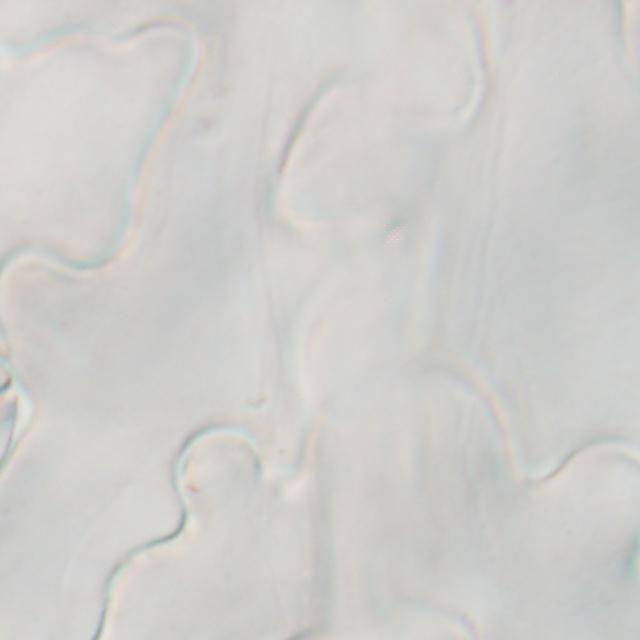center: (0, 409, 40, 414)
stomata-huw1: (1, 356, 30, 467)
